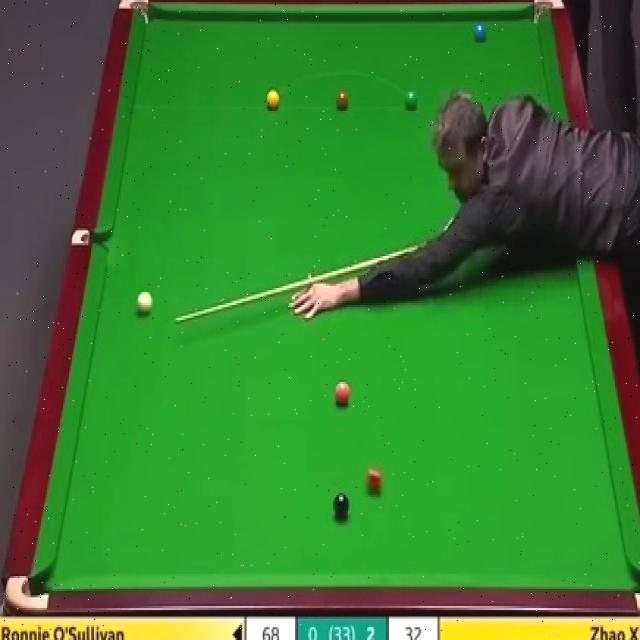black-ball: (333, 492, 350, 519)
blue-ball: (472, 22, 488, 43)
brown-ball: (335, 92, 349, 109)
green-ball: (404, 88, 419, 112)
pink-ball: (334, 379, 351, 409)
red-ball: (366, 465, 382, 494)
white-ball: (136, 288, 154, 318)
yellow-ball: (266, 88, 280, 110)
